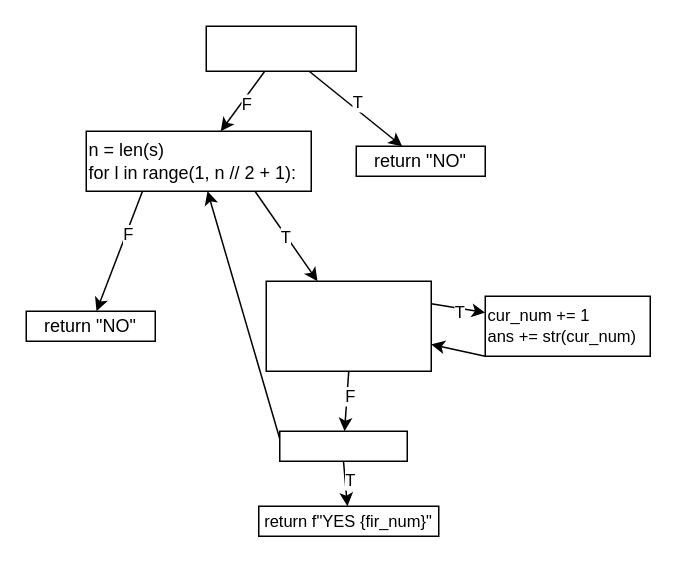
Some shapes in this 677 by 563 pixel diagram are drawn without their labels. The shapes that lost their labels are listed below. From the top down, each one's centre as x and y in pixels, then its label:
(x=280, y=48): if not s.isdigit():
(x=348, y=325): fir_num = int(s[:l]) cur_num = fir_num ans = str(fir_num) while len(ans) < n:
(x=342, y=445): if ans == s:
